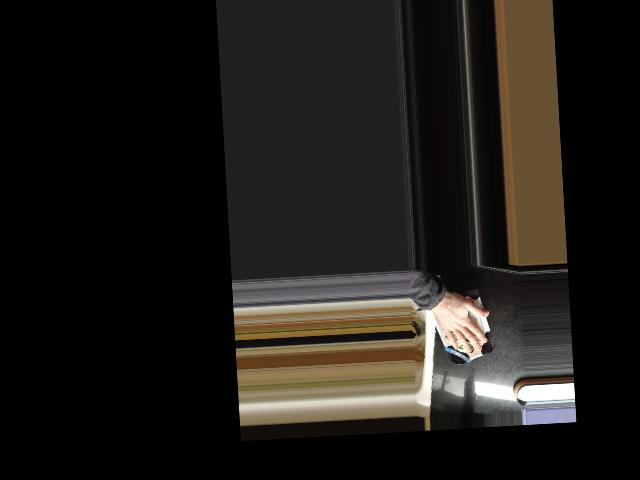cheese: (426, 287, 496, 367)
